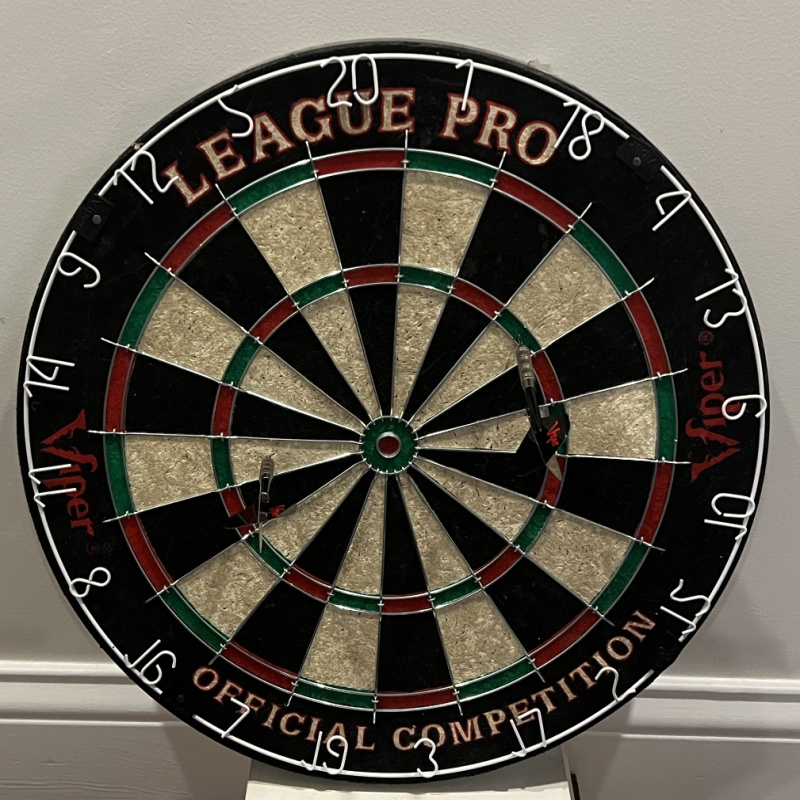dart: (509, 338, 543, 376), (254, 448, 285, 482)
eleven: (29, 461, 78, 509)
six: (721, 393, 771, 420)
three: (409, 737, 443, 780)
twenty: (319, 53, 380, 109)
